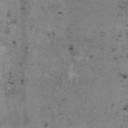oxide scale of temperature system: (89, 30, 128, 80), (4, 3, 28, 50), (7, 72, 24, 86), (48, 32, 56, 38), (68, 45, 75, 51), (122, 104, 128, 110), (58, 11, 62, 16), (44, 123, 48, 128), (62, 98, 66, 102)
